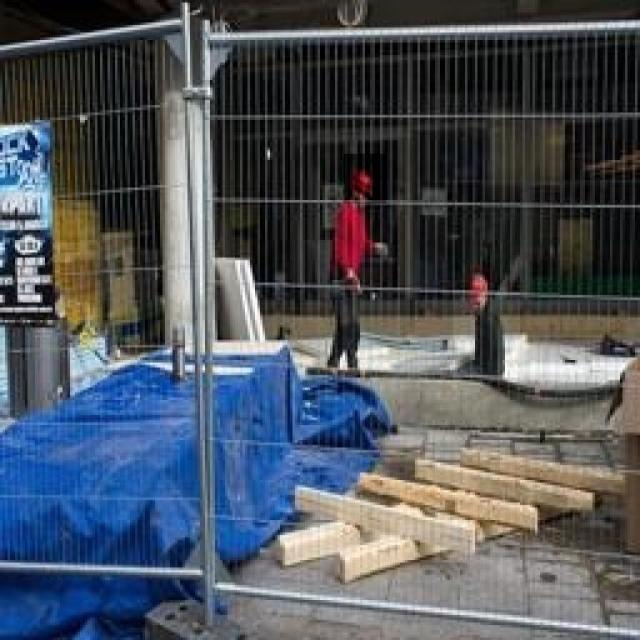Helmet: (324, 204, 388, 308), (454, 292, 520, 382), (450, 243, 516, 313), (344, 154, 386, 212)
